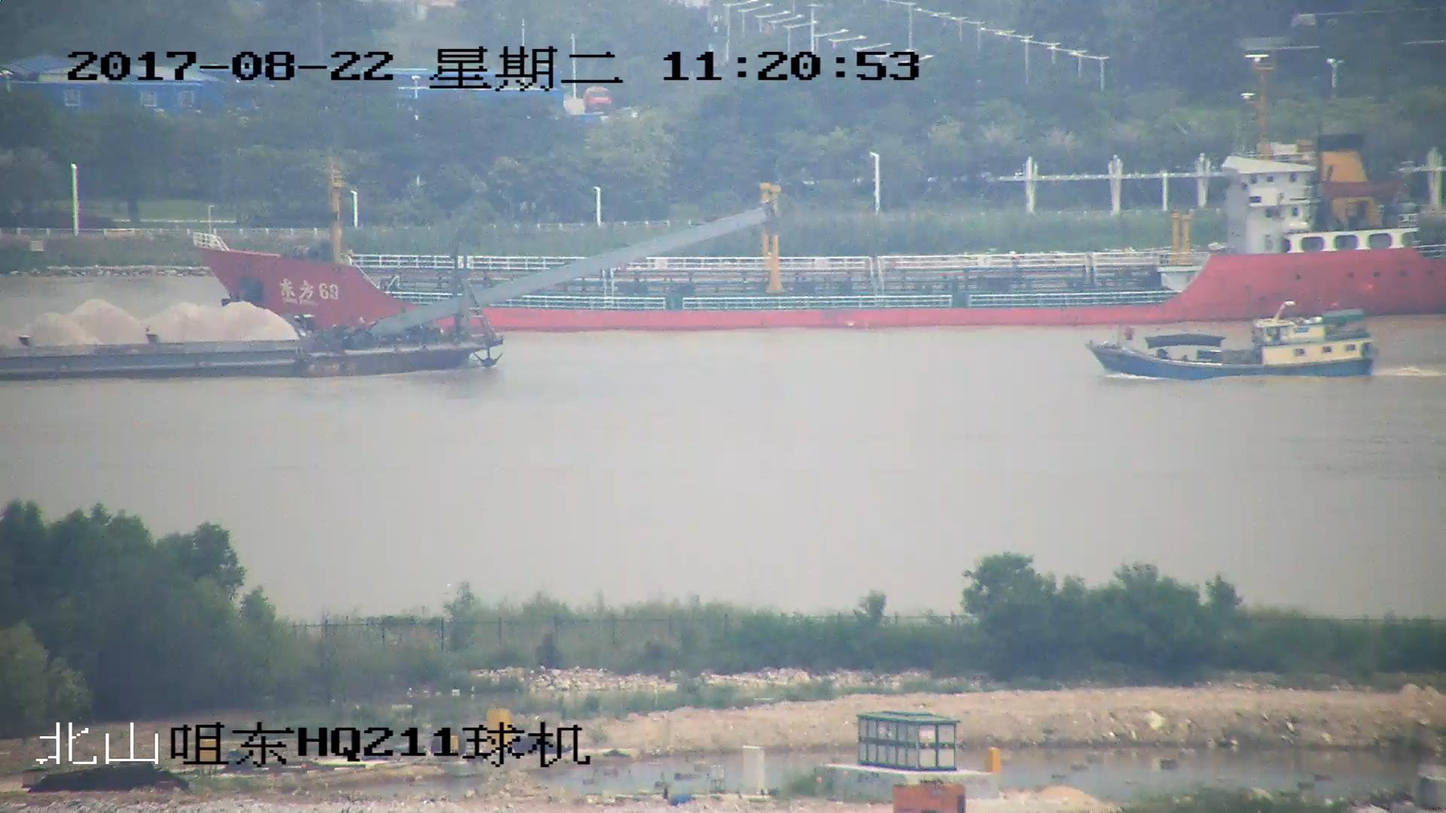fishing boat: (1087, 301, 1375, 378)
general cargo ship: (188, 91, 1445, 330)
ore carrier: (0, 199, 771, 383)
